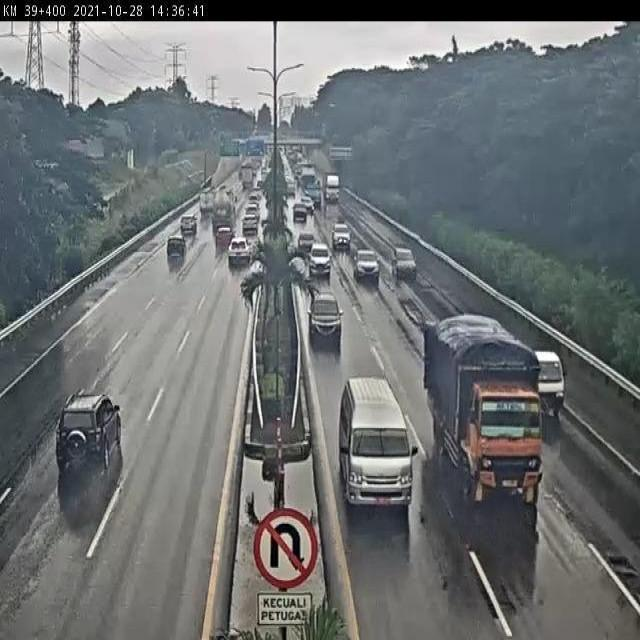car: (48, 399, 116, 493), (525, 339, 552, 411), (307, 288, 343, 339), (355, 239, 379, 295), (156, 232, 186, 267), (308, 242, 334, 274), (338, 216, 358, 251), (392, 241, 408, 275), (232, 244, 249, 272), (179, 212, 190, 239)
truck: (419, 307, 535, 497), (339, 367, 397, 484)
